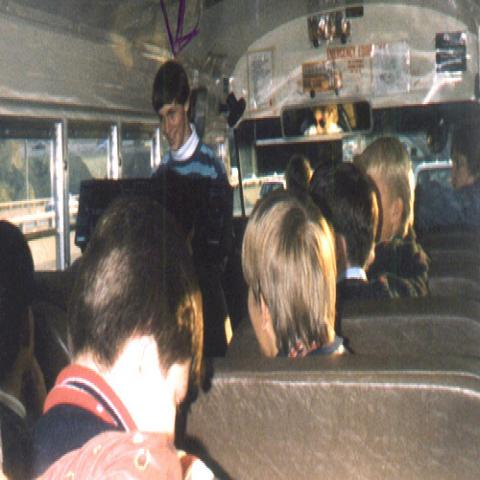car: (256, 181, 285, 205), (243, 173, 258, 186), (45, 201, 55, 213)
